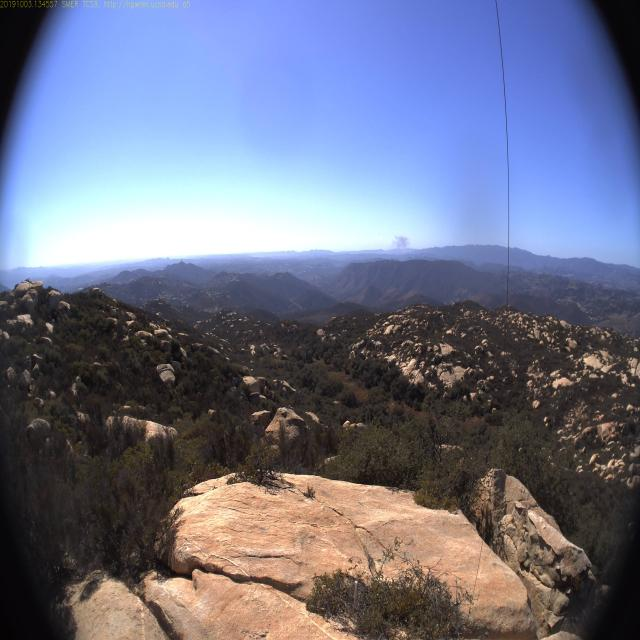smoke: (384, 228, 413, 259), (384, 228, 412, 254)
